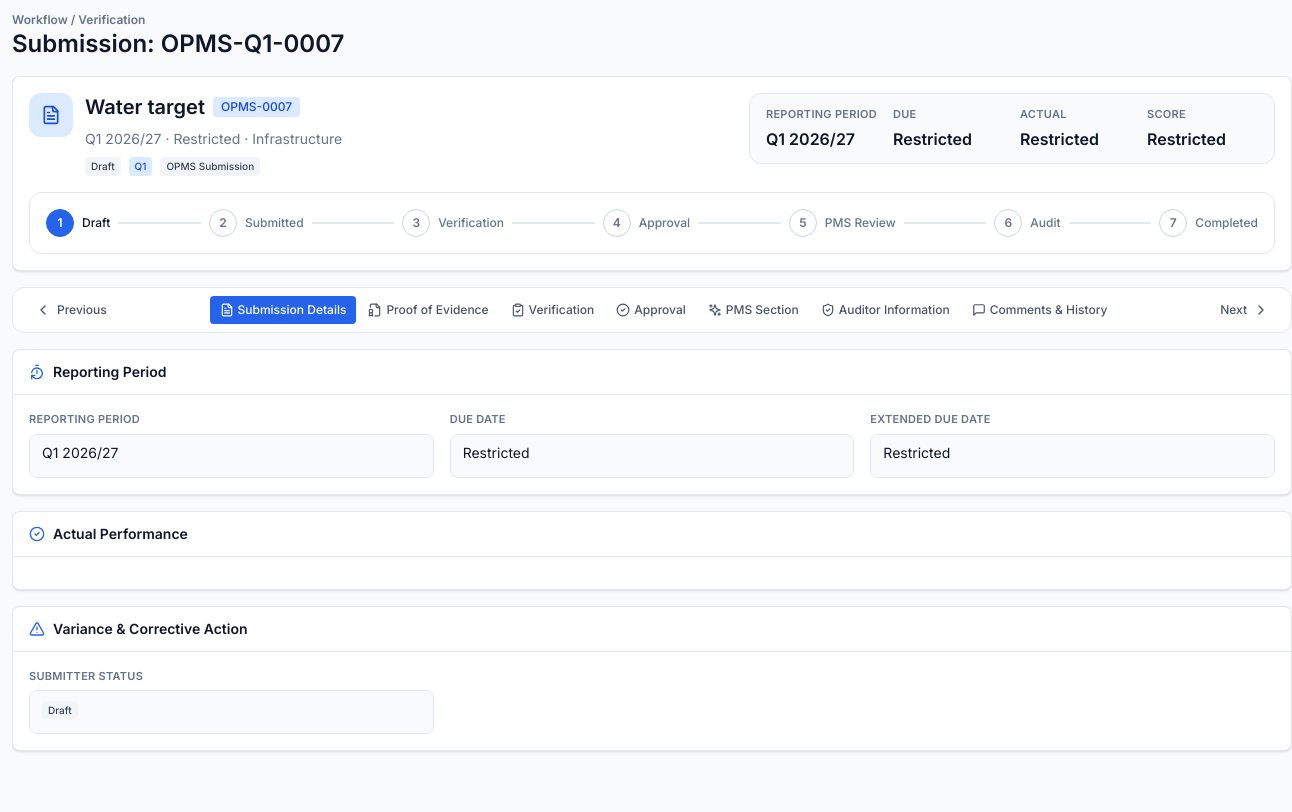
Test: SubmissionWorkspace member security › renders scanner detail after the corresponding POE member grant is effective
Click the tab "Proof of Evidence" at (428, 310), box [358,296,499,324]
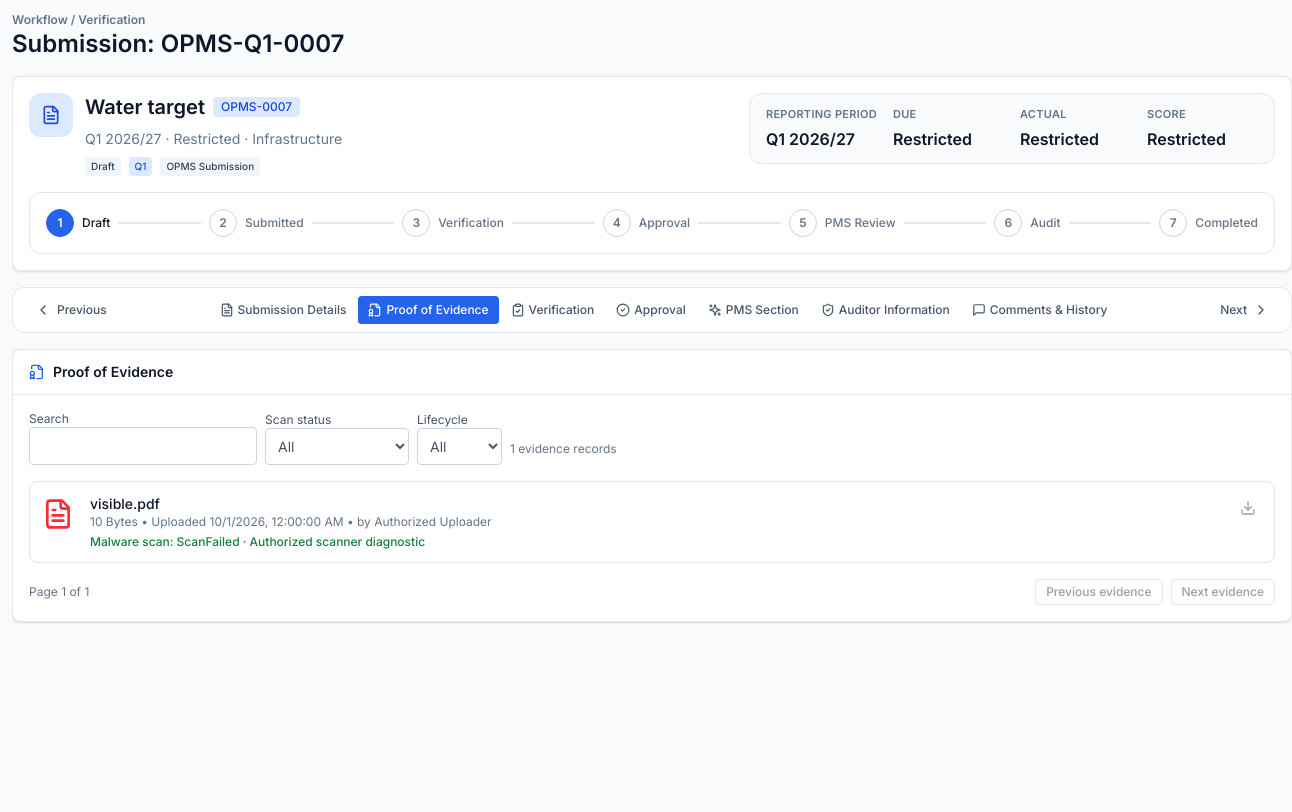
Result: the text "Malware scan: ScanFailed · Authorized scanner diagnostic" is shown at [90,534,425,549]
Result: the text "Authorized Uploader" is shown at [344,514,492,529]
